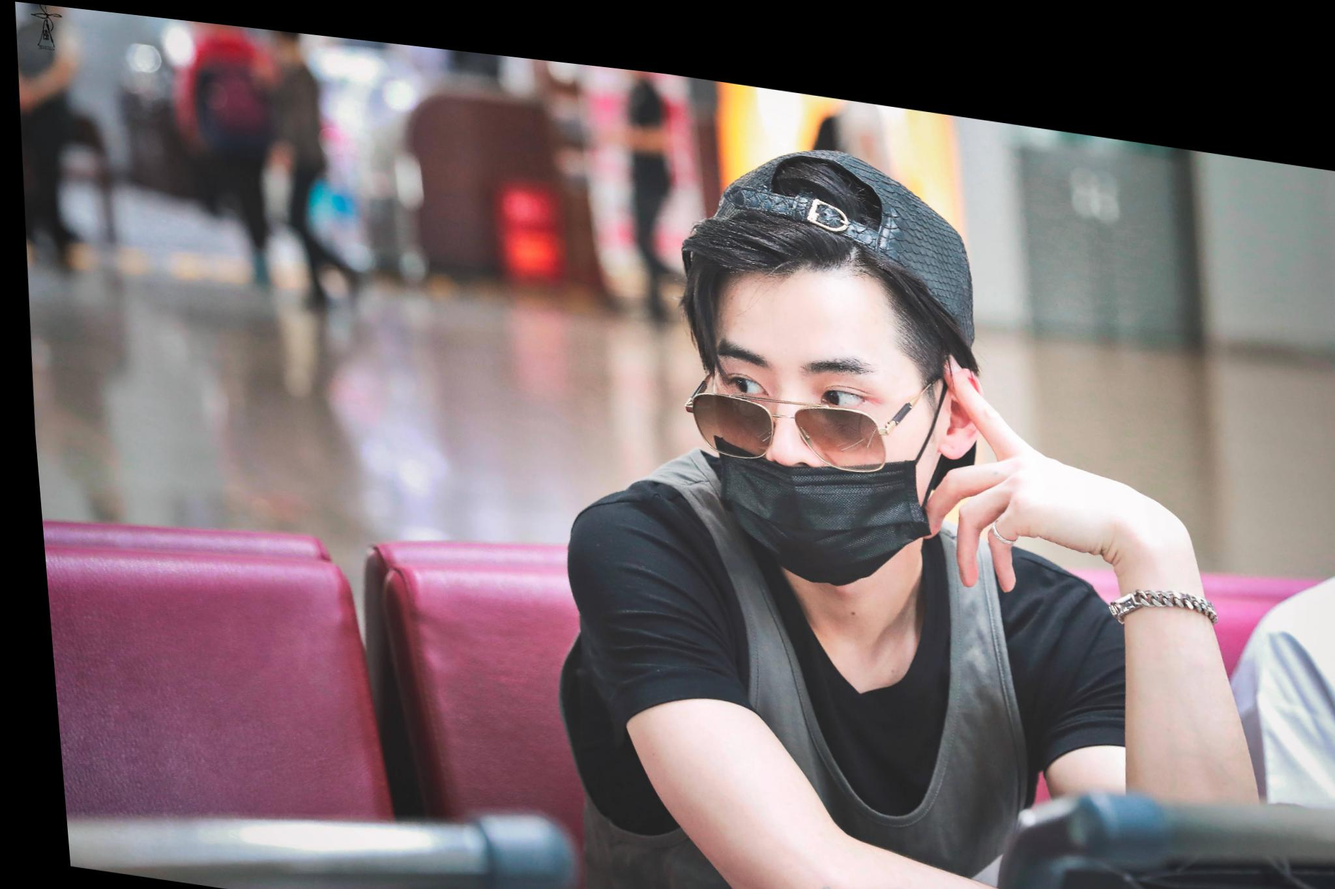WRONG: (694, 281, 939, 574)
